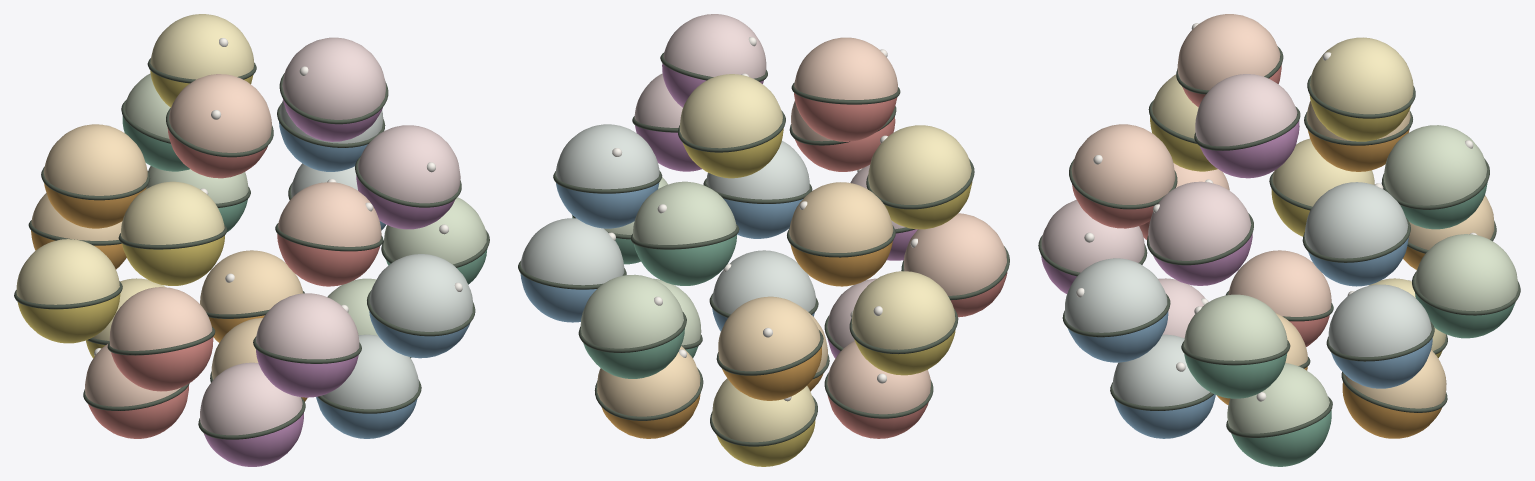
Rendered from hopper.prefab.glb.
3 renders of one model, left to right at view 1: azimuth 30°, elevation 25°; view 2: azimuth 150°, elevation 25°; view 3: azimuth 270°, elevation 25°, orthographic.
Visible parts, largest first — view 1: HopperBall11_Batch0, HopperBall10_Batch0, HopperBall9_Batch0, HopperBall17_Batch0, HopperBall16_Batch0, HopperBall8_Batch0, HopperBall22_Batch0, HopperBall21_Batch0, HopperBall18_Batch0, HopperBall15_Batch0, HopperBall3_Batch0, HopperBall2_Batch0 (+26 smaller); view 2: HopperBall22_Batch0, HopperBall23_Batch0, HopperBall18_Batch0, HopperBall19_Batch0, HopperBall13_Batch0, HopperBall11_Batch0, HopperBall12_Batch0, HopperBall17_Batch0, HopperBall20_Batch0, HopperBall14_Batch0, HopperBall10_Batch0, HopperBall4_Batch0 (+25 smaller); view 3: HopperBall21_Batch0, HopperBall7_Batch0, HopperBall14_Batch0, HopperBall20_Batch0, HopperBall15_Batch0, HopperBall23_Batch0, HopperBall8_Batch0, HopperBall13_Batch0, HopperBall19_Batch0, HopperBall16_Batch0, HopperBall1_Batch0, HopperBall2_Batch0 (+26 smaller).
Part boxes in pixels (<box>): HopperBall11_Batch0: <box>16,239,120,343</box>; HopperBall10_Batch0: <box>109,287,213,391</box>; HopperBall9_Batch0: <box>256,293,359,397</box>; HopperBall17_Batch0: <box>121,181,224,285</box>; HopperBall16_Batch0: <box>277,182,381,286</box>; HopperBall8_Batch0: <box>369,254,472,358</box>; HopperBall22_Batch0: <box>167,74,271,178</box>; HopperBall21_Batch0: <box>282,37,385,141</box>; HopperBall18_Batch0: <box>43,124,147,228</box>; HopperBall15_Batch0: <box>356,125,460,229</box>; HopperBall3_Batch0: <box>200,362,303,466</box>; HopperBall2_Batch0: <box>316,334,418,438</box>; HopperBall22_Batch0: <box>794,37,897,141</box>; HopperBall23_Batch0: <box>679,74,783,178</box>; HopperBall18_Batch0: <box>789,182,893,286</box>; HopperBall19_Batch0: <box>633,181,736,285</box>; HopperBall13_Batch0: <box>580,274,684,378</box>; HopperBall11_Batch0: <box>852,271,955,375</box>; HopperBall12_Batch0: <box>718,296,821,400</box>; HopperBall17_Batch0: <box>868,125,972,229</box>; HopperBall20_Batch0: <box>555,124,659,228</box>; HopperBall14_Batch0: <box>520,218,624,322</box>; HopperBall10_Batch0: <box>903,213,1007,317</box>; HopperBall4_Batch0: <box>827,341,930,438</box>; HopperBall21_Batch0: <box>1195,74,1299,178</box>; HopperBall7_Batch0: <box>1184,294,1287,398</box>; HopperBall14_Batch0: <box>1328,284,1432,388</box>; HopperBall20_Batch0: <box>1304,182,1408,286</box>; HopperBall15_Batch0: <box>1148,181,1252,285</box>; HopperBall23_Batch0: <box>1309,37,1413,141</box>; HopperBall8_Batch0: <box>1064,258,1168,362</box>; HopperBall13_Batch0: <box>1414,234,1518,338</box>; HopperBall19_Batch0: <box>1383,125,1487,229</box>; HopperBall16_Batch0: <box>1071,124,1175,228</box>; HopperBall1_Batch0: <box>1227,363,1331,466</box>; HopperBall2_Batch0: <box>1112,334,1215,438</box>.
Bounding box in the file's own units: 0.1634 × 0.1354 × 0.1634.
2 materials, 2 textured.
